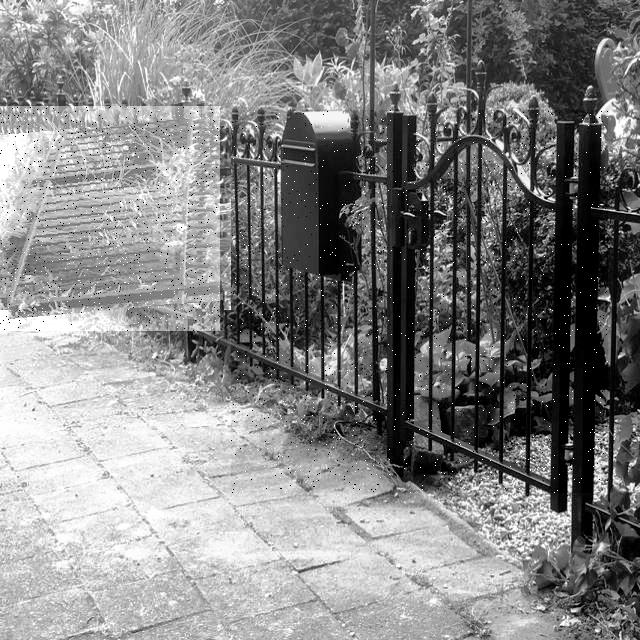fences: (231, 110, 608, 493), (0, 106, 220, 331)
